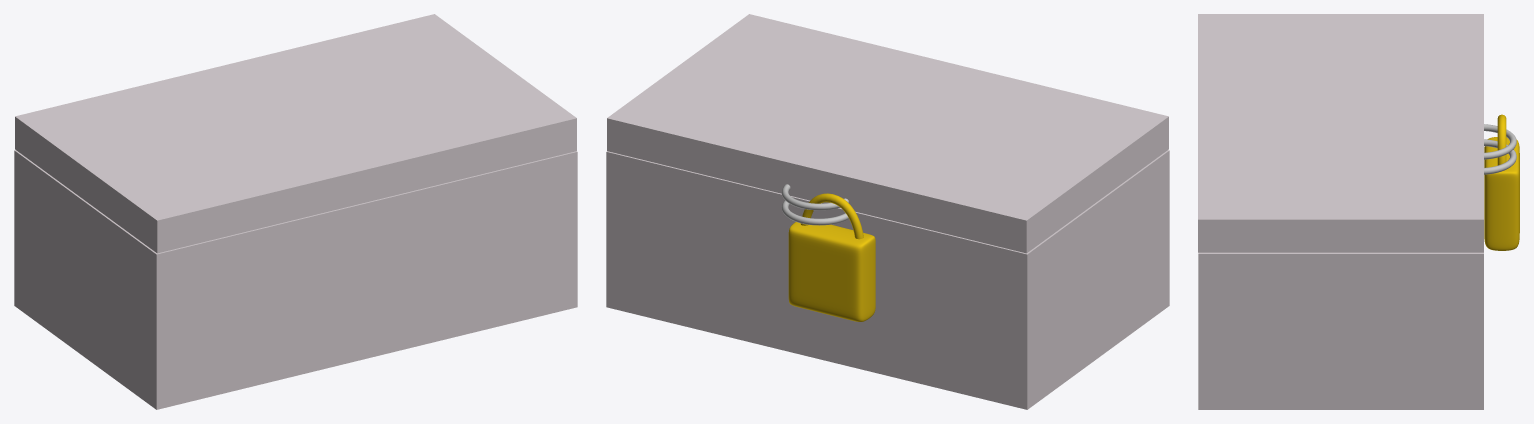
Rendered from 南京錠と箱.fbx.
The picture shows the model from 3 angles, left to right: view 1: azimuth 30°, elevation 25°; view 2: azimuth 150°, elevation 25°; view 3: azimuth 270°, elevation 25°; orthographic projection.
Visible parts, largest first — view 1: Cube, 立方体; view 2: Cube, 立方体, 南京錠本体, 南京錠パーツ, ベジエ円.001, ベジエ円; view 3: 立方体, Cube, 南京錠本体, ベジエ円, ベジエ円.001, 南京錠パーツ.
Boxes of the visible parts, bbox=[...] form: Cube: bbox=[14, 150, 577, 409]; 立方体: bbox=[15, 14, 576, 253]; Cube: bbox=[606, 150, 1169, 409]; 立方体: bbox=[607, 14, 1168, 253]; 南京錠本体: bbox=[788, 222, 875, 321]; 南京錠パーツ: bbox=[800, 193, 863, 239]; ベジエ円.001: bbox=[781, 200, 848, 225]; ベジエ円: bbox=[781, 184, 848, 210]; 立方体: bbox=[1198, 14, 1483, 252]; Cube: bbox=[1198, 252, 1483, 409]; 南京錠本体: bbox=[1484, 137, 1519, 250]; ベジエ円: bbox=[1484, 124, 1516, 159]; ベジエ円.001: bbox=[1484, 139, 1516, 174]; 南京錠パーツ: bbox=[1497, 114, 1506, 165].
Size of the model in its own units: 200 by 85.91 by 132.
